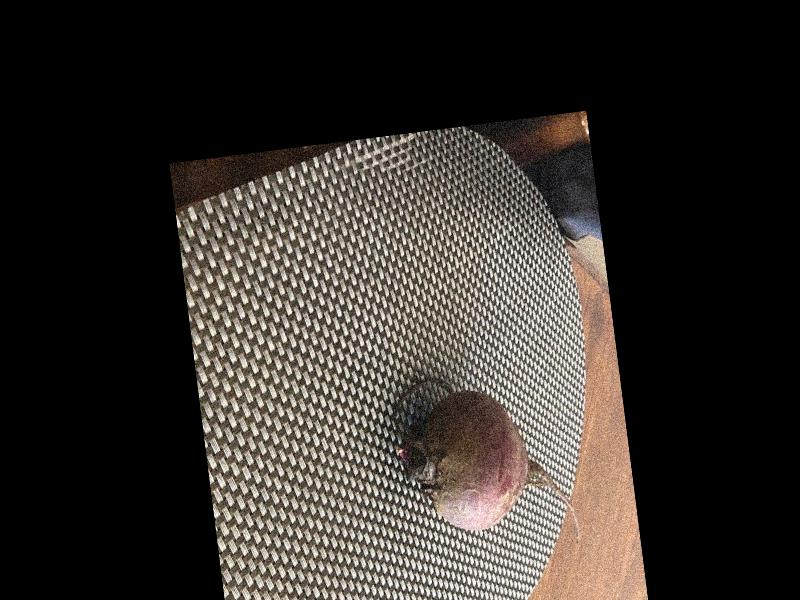Beet: (387, 360, 580, 562)
